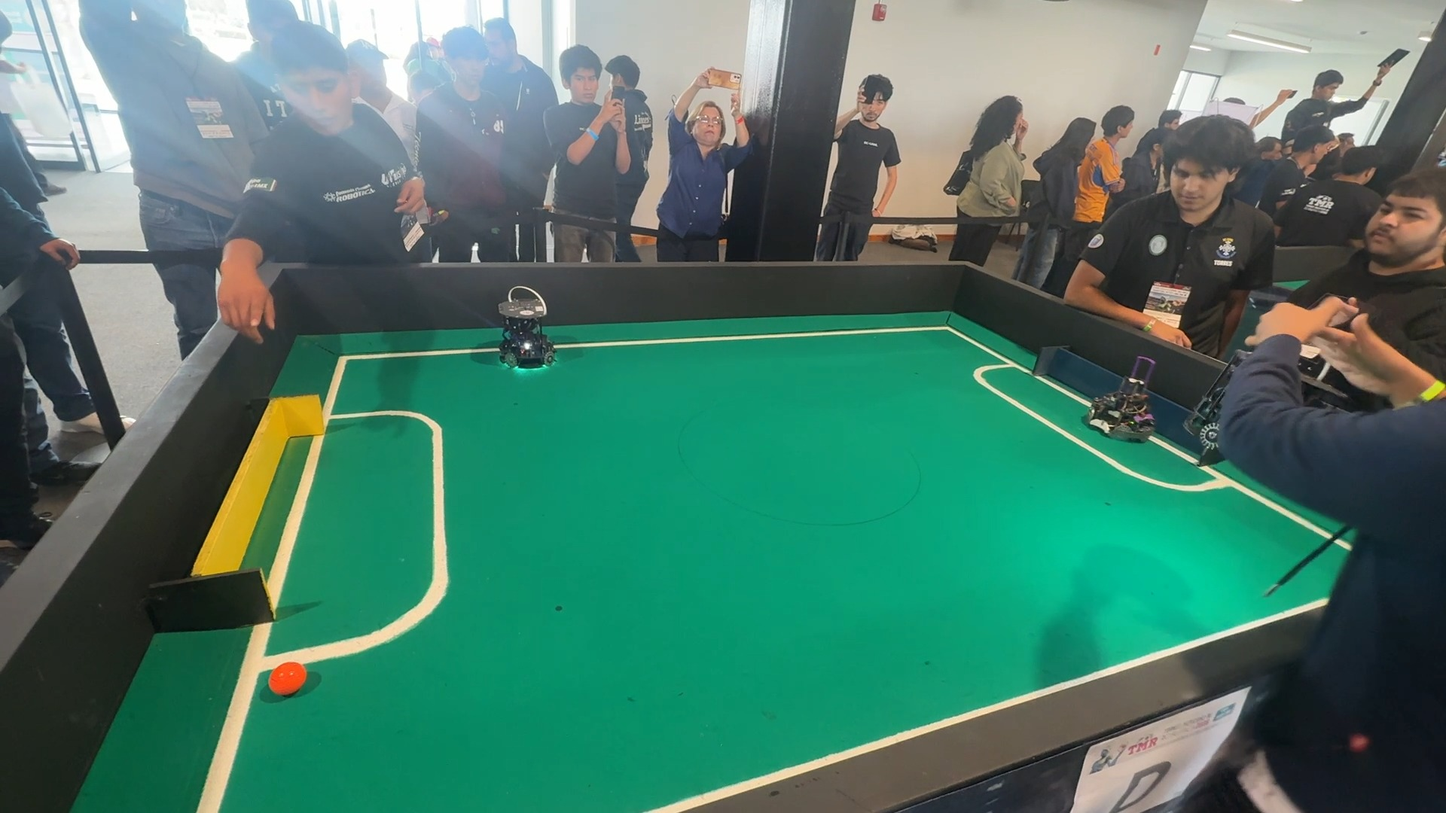Robot: (1075, 340, 1171, 465), (482, 287, 568, 389)
pelota: (261, 655, 315, 703)
